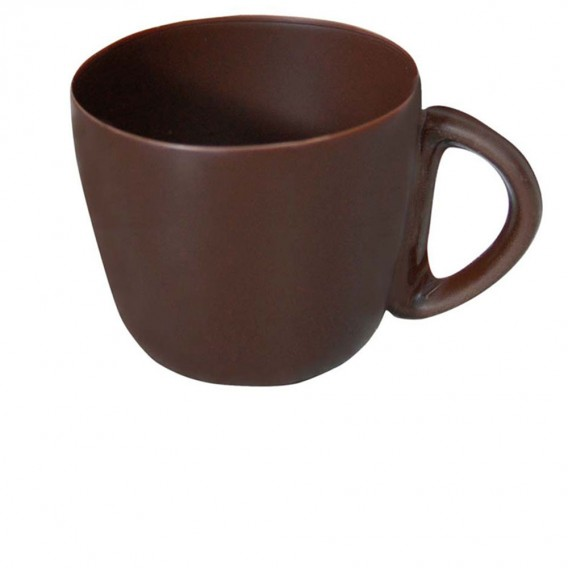cup: (67, 10, 545, 388)
